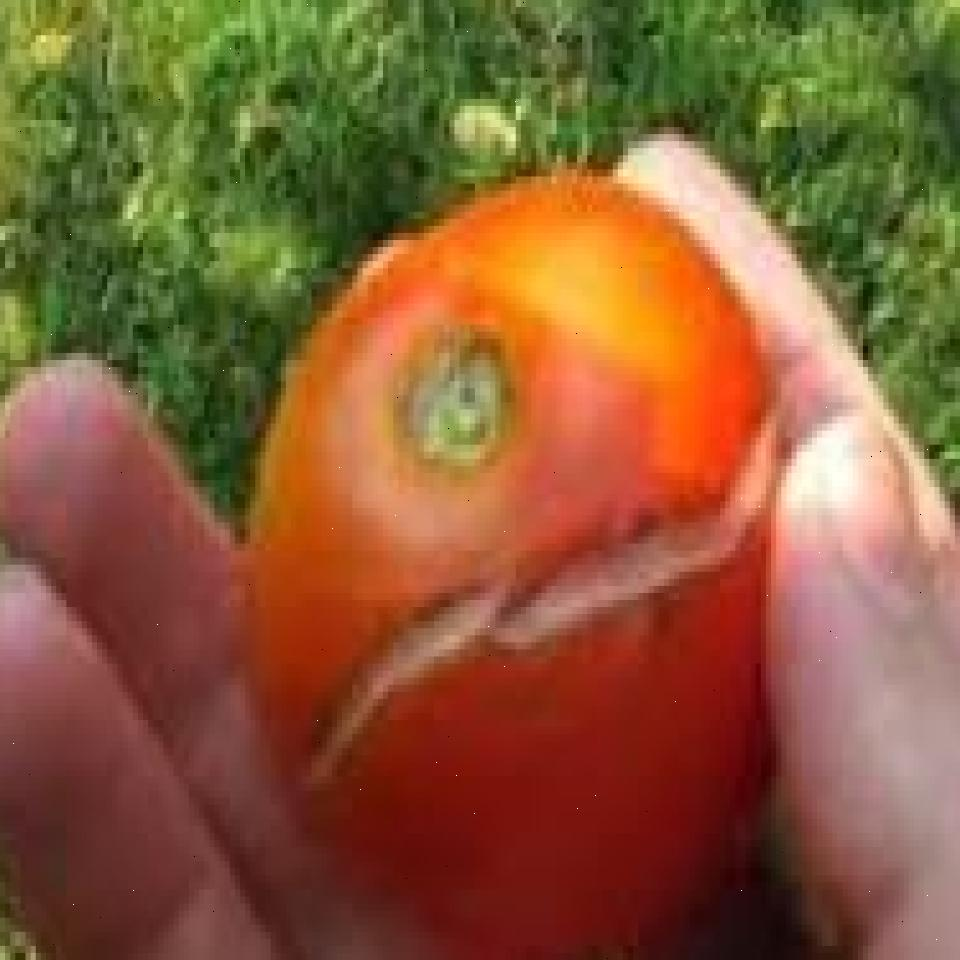Cracking: (306, 376, 794, 804)
